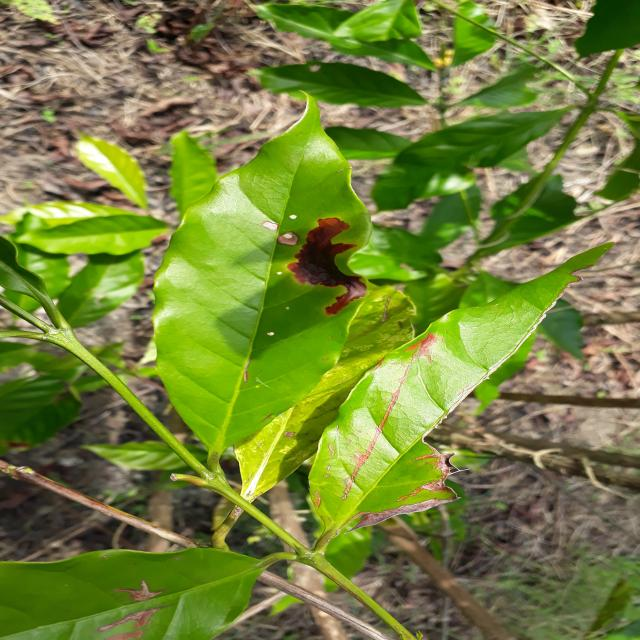Plaga-AranaRoja: (146, 96, 372, 456)
